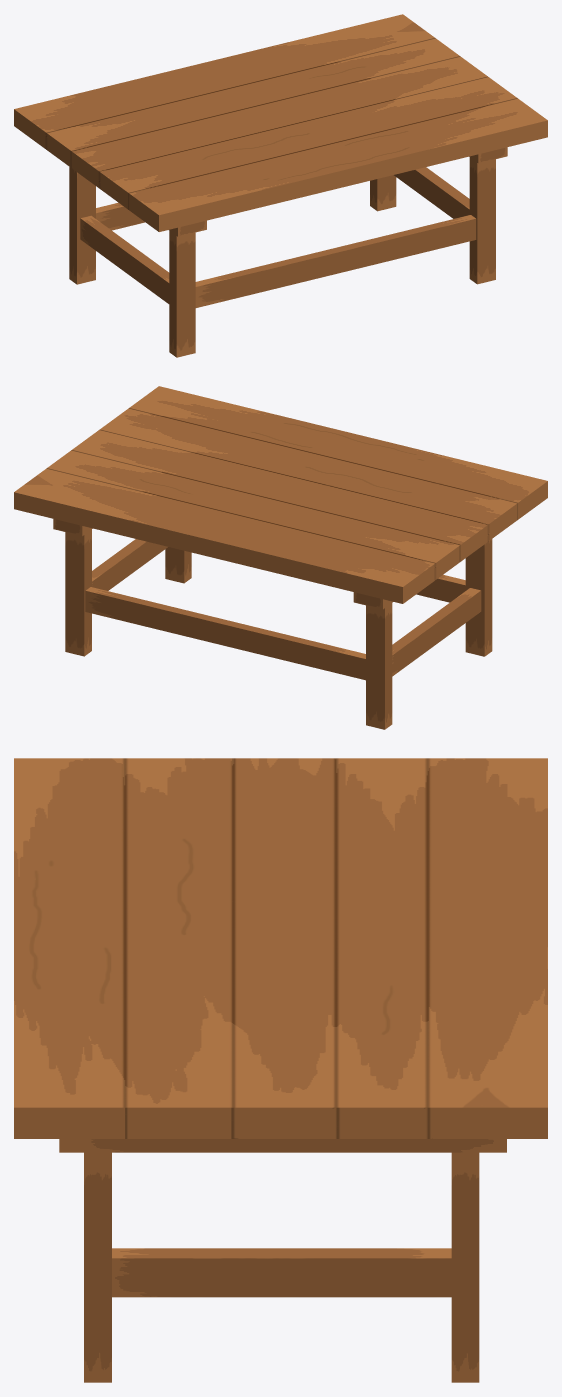
File: table.fbx
3 views of the same model, one above another, from view 1: azimuth 30°, elevation 25°; view 2: azimuth 150°, elevation 25°; view 3: azimuth 270°, elevation 25° (orthographic). The views are drawn at different scales.
Visible parts, largest first — view 1: Mesa_V1; view 2: Mesa_V1; view 3: Mesa_V1.
Boxes of the visible parts, x1,y1,x2,y2 form: Mesa_V1: [14, 14, 547, 357]; Mesa_V1: [14, 386, 547, 729]; Mesa_V1: [14, 758, 547, 1382].
Size of the model in its own units: 480 by 195 by 310.
